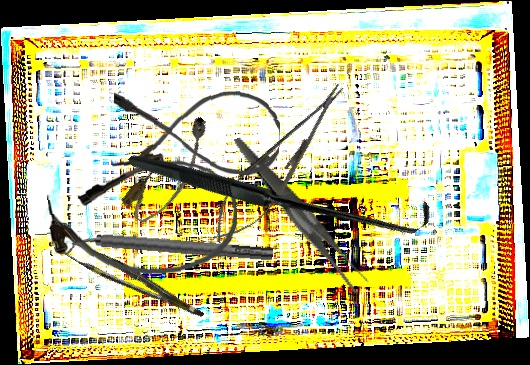Cannula: (45, 154, 241, 283), (111, 87, 282, 176), (118, 111, 225, 230)
Dressing Forceps: (232, 112, 372, 315)
Fixation Ring: (53, 219, 275, 274)
Hook Surgical: (127, 32, 437, 344)
Needle Holder: (198, 71, 360, 256)
Tissue Forceps: (63, 233, 205, 334)
